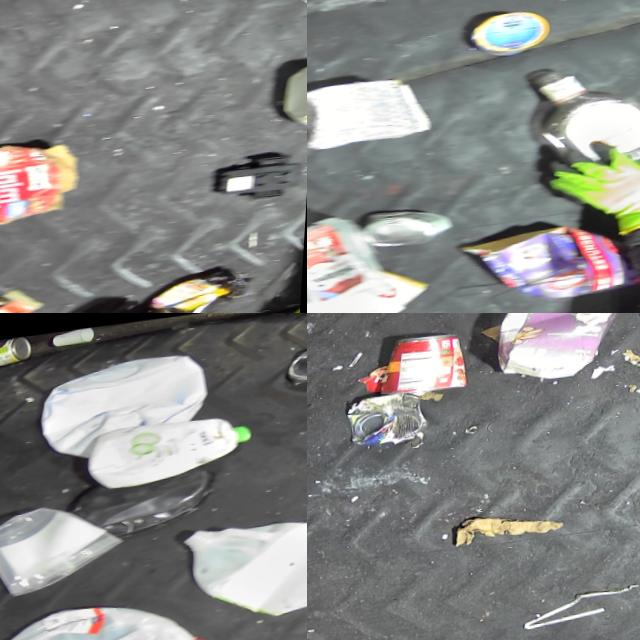can: (379, 329, 476, 398), (346, 388, 437, 450), (468, 8, 558, 64), (362, 203, 461, 253), (0, 332, 43, 378)
milk_jug: (34, 353, 214, 467), (174, 502, 307, 627), (0, 587, 224, 640)
non_white_jug: (485, 313, 640, 385)
